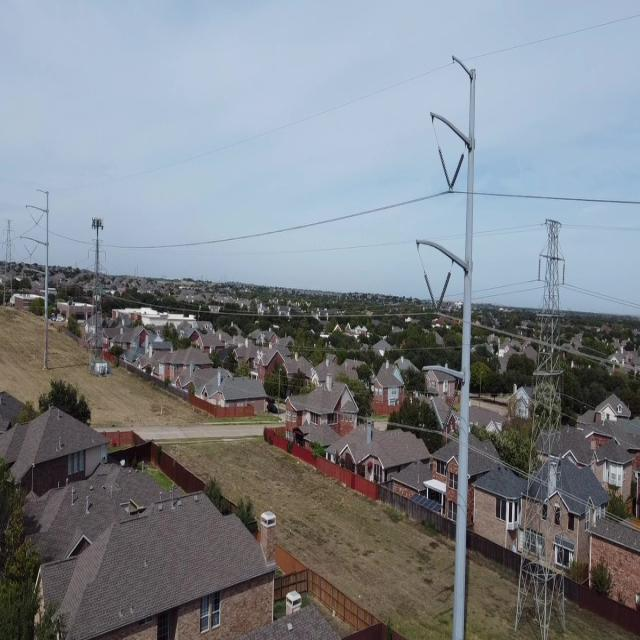杆塔: (506, 206, 576, 629), (80, 212, 110, 364), (0, 212, 16, 307)
正常绝缘子: (428, 388, 460, 437), (423, 270, 453, 317), (437, 146, 466, 192), (536, 252, 542, 284), (560, 259, 566, 290)
